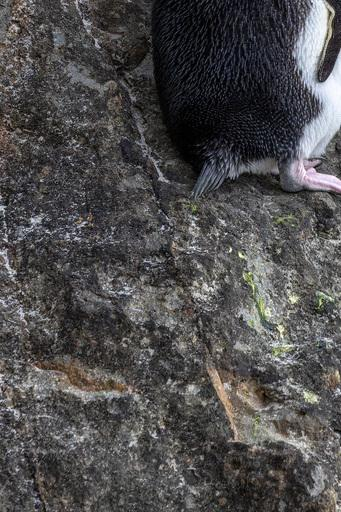Southern Rockhopper Penguin: (118, 0, 341, 228)
